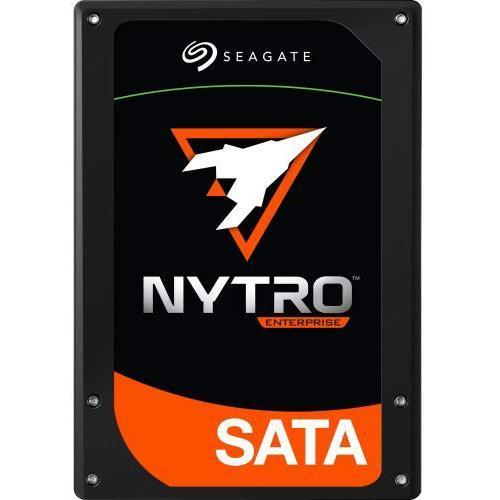seagate-hdd-240gb: (76, 5, 427, 497)
